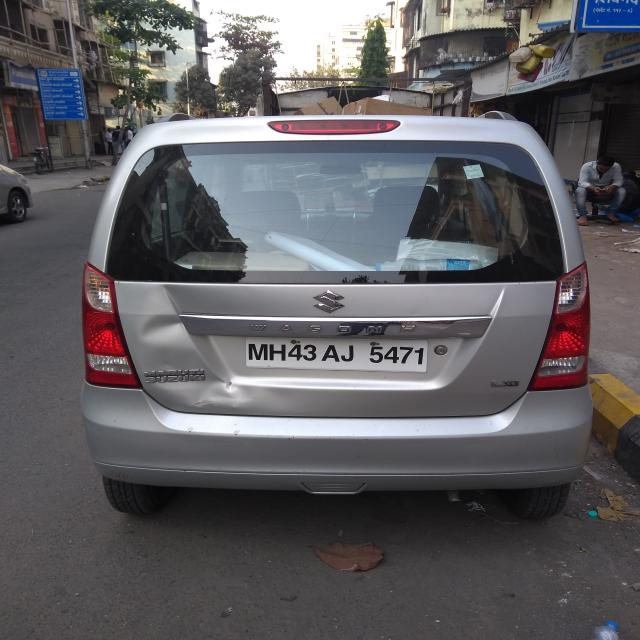Number-Plate: (244, 334, 426, 371)
